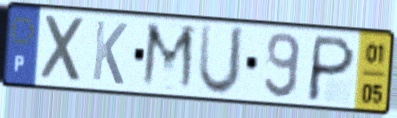9: (262, 30, 302, 101)
K: (90, 17, 130, 88)
M: (138, 19, 198, 95)
P: (303, 33, 359, 105)
U: (195, 22, 248, 100)
X: (39, 12, 89, 86)
